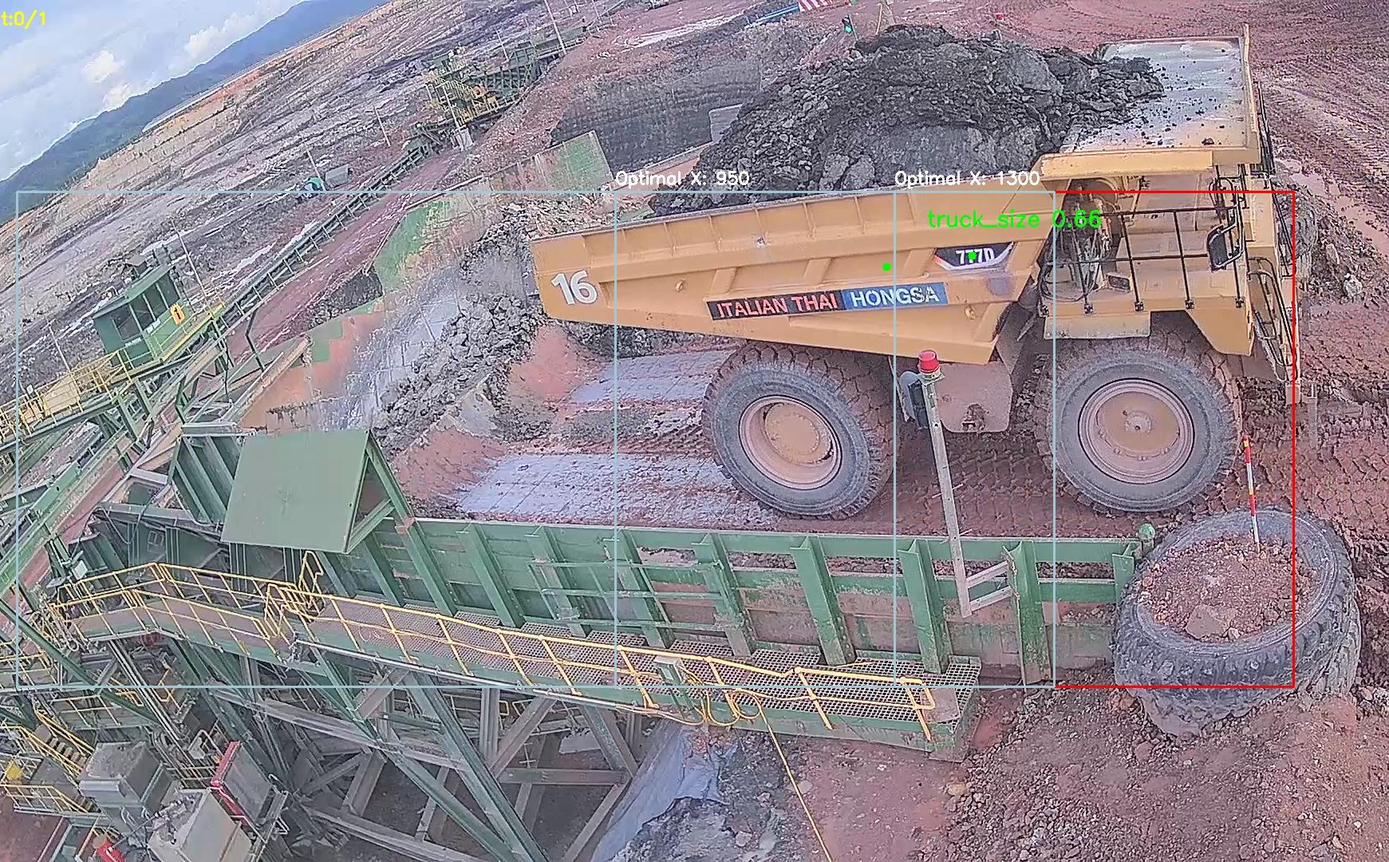company: (692, 277, 967, 328)
full_load: (696, 22, 1087, 201)
mining_truck: (527, 10, 1312, 521)
tail_number: (544, 261, 614, 314)
truck_size: (930, 238, 1020, 274)
